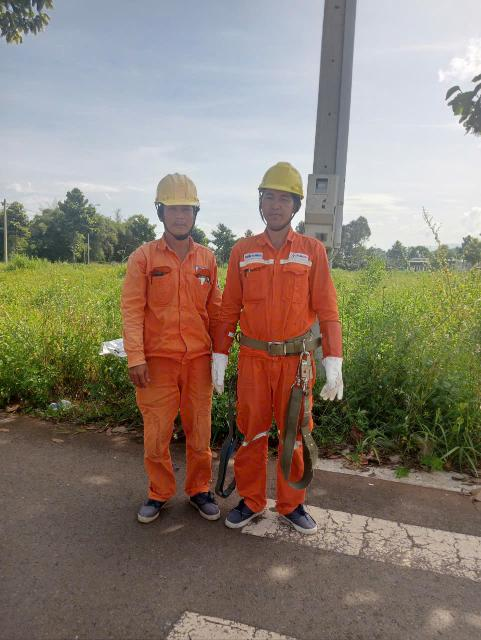gloves: (195, 342, 243, 398), (316, 352, 356, 408)
harness: (235, 328, 330, 359)
helmet: (147, 161, 232, 225), (257, 138, 313, 208)
shoes: (179, 482, 228, 528), (217, 487, 260, 537), (275, 497, 326, 538), (133, 482, 168, 527)
